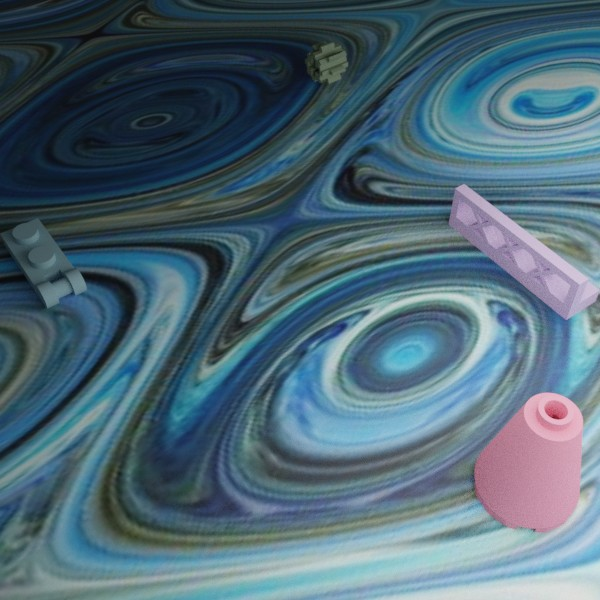lego: (448, 183, 600, 320), (474, 392, 583, 532), (0, 218, 87, 308), (305, 40, 348, 84)
